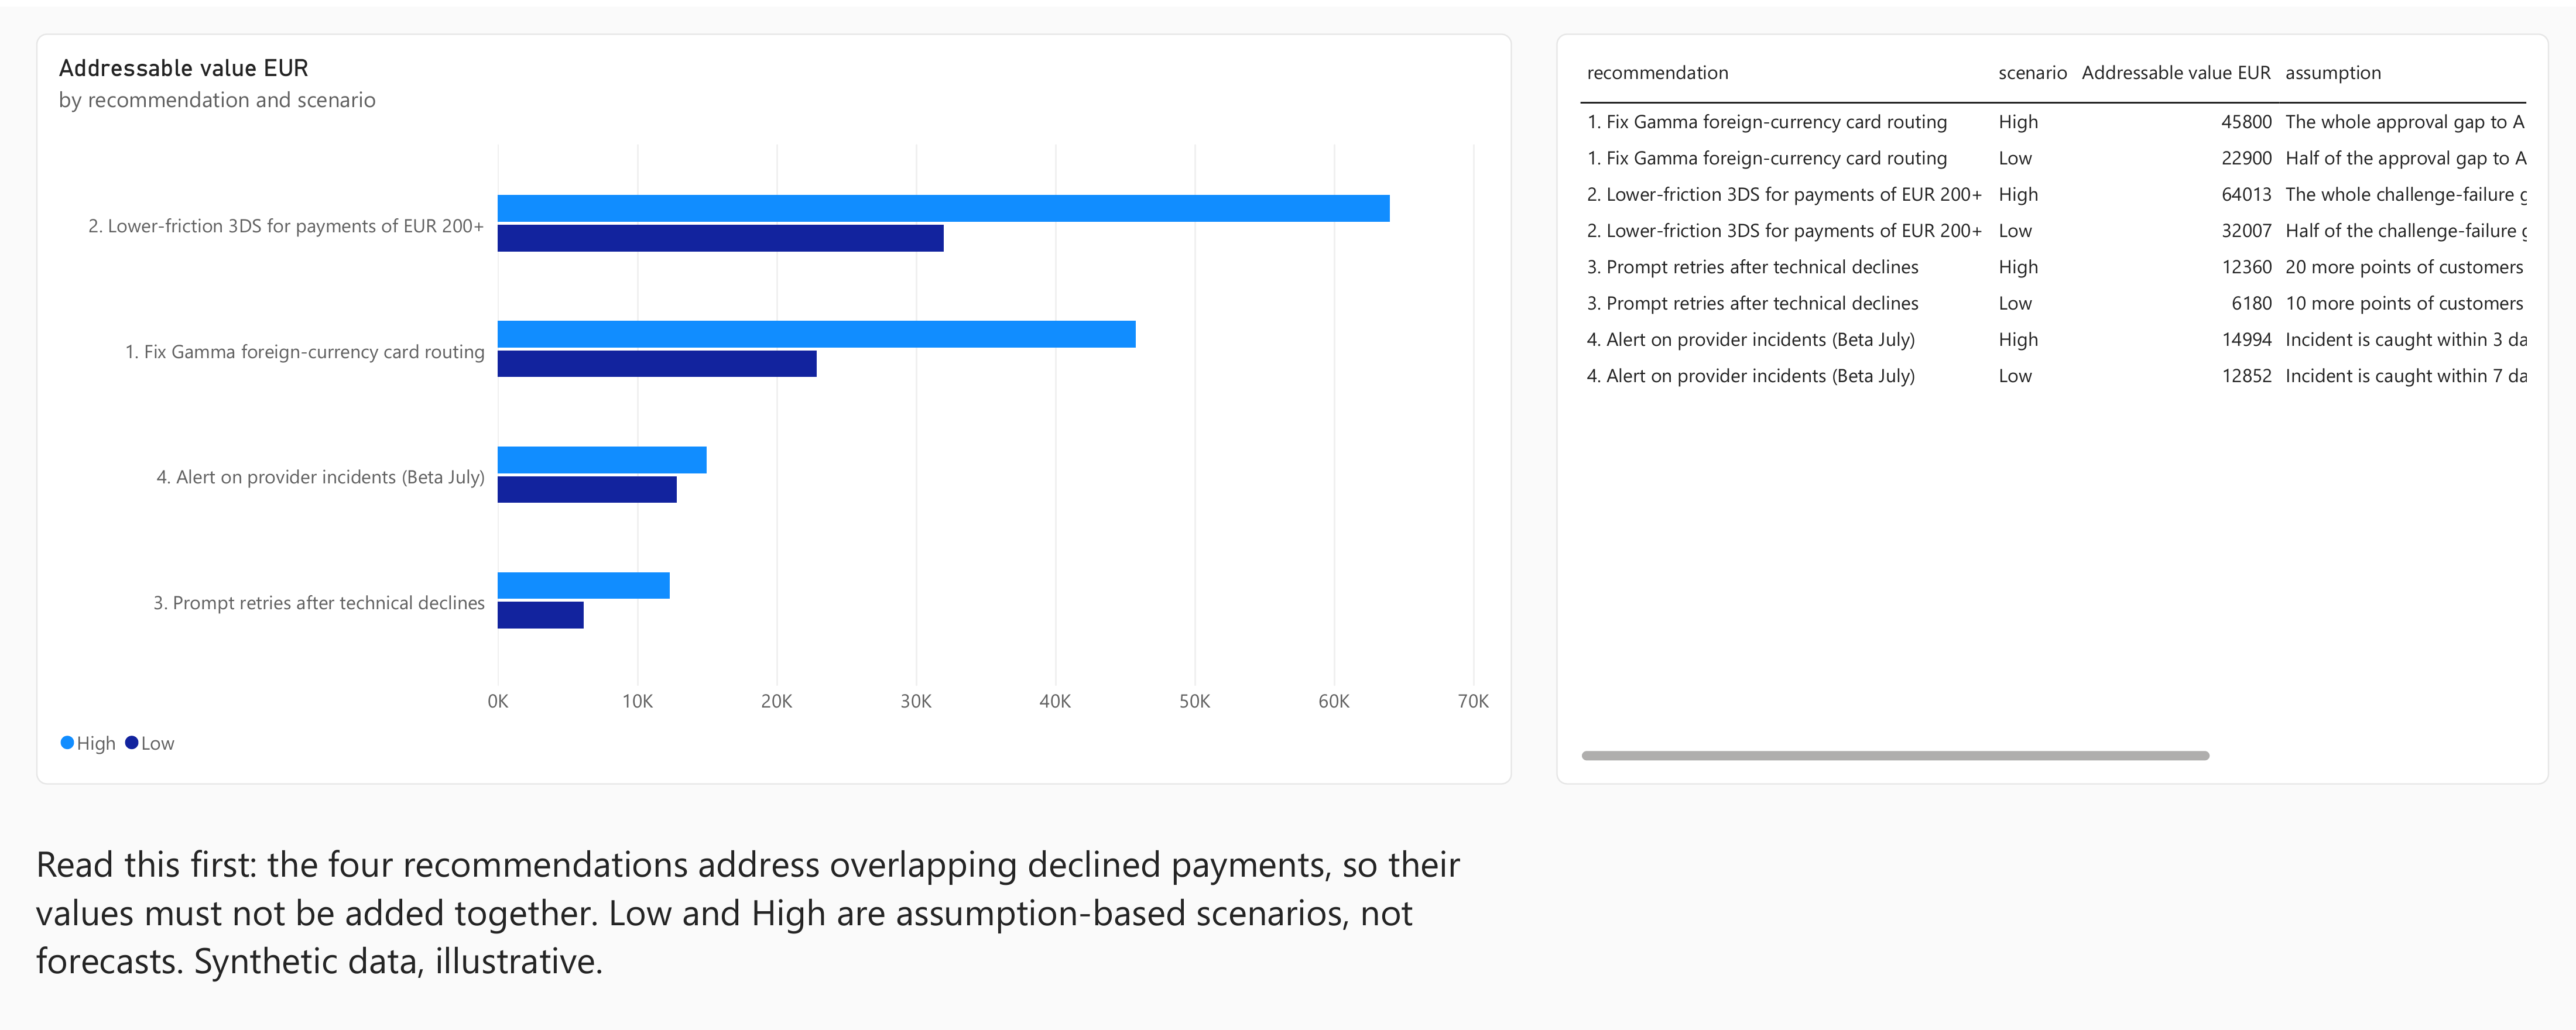

This screenshot's page, from the dashboard's own definition file:
{"tool":"tableau","page":{"name":"3. What is it worth? Synthetic data, illustrative","canvas":[1200,800],"ordinal":2},"visuals":[{"type":"title","box":[8,8,1024,42]},{"type":"legend","title":"Gross EUR a year, low and high case. Recommendations overlap: do not add them. Before fees and fraud cost","param":"[federated.08tk2db1iawvf81aidu3s02pbepb].[none:scenario:nk]","box":[1032,8,160,66]},{"type":"worksheet","title":"Gross EUR a year, low and high case. Recommendations overlap: do not add them. Before fees and fraud cost","mark":"Automatic","rows":["recommendation","scenario"],"cols":["addressable_value_eur"],"box":[8,50,1024,287]}]}

Visuals, with their boxes on the page's 1200x800 design canvas (x1, y1, x2, y2). These are canvas units, not pixel positions in the 2576x1030 screenshot, which may show the page scaled, cropped or inside an application window:
title: x1=8 y1=8 x2=1032 y2=50
"Gross EUR a year, low and high case. Recommendations overlap: do not add them. Before fees and fraud cost" legend: x1=1032 y1=8 x2=1192 y2=74
"Gross EUR a year, low and high case. Recommendations overlap: do not add them. Before fees and fraud cost" worksheet: x1=8 y1=50 x2=1032 y2=337
